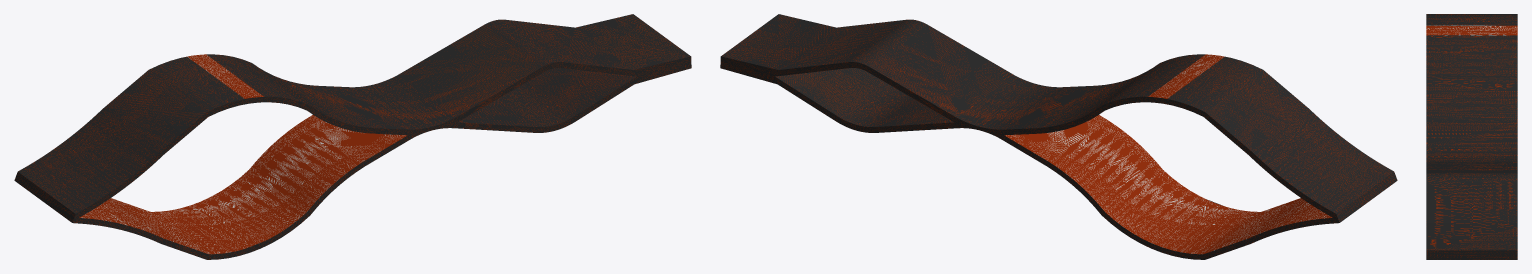
File: original-32.obj
The picture shows the model from 3 angles, left to right: view 1: azimuth 30°, elevation 25°; view 2: azimuth 150°, elevation 25°; view 3: azimuth 270°, elevation 25°; orthographic projection. The views are drawn at different scales.
Visible parts, largest first — view 1: Component_1_18/Component_1/mesh43/mesh43-geometry#mesh43-geometr; view 2: Component_1_18/Component_1/mesh43/mesh43-geometry#mesh43-geometr; view 3: Component_1_18/Component_1/mesh43/mesh43-geometry#mesh43-geometr.
Boxes of the visible parts, <box> form: Component_1_18/Component_1/mesh43/mesh43-geometry#mesh43-geometr: <box>14,14,691,259</box>; Component_1_18/Component_1/mesh43/mesh43-geometry#mesh43-geometr: <box>720,14,1397,259</box>; Component_1_18/Component_1/mesh43/mesh43-geometry#mesh43-geometr: <box>1426,14,1517,259</box>.
Bounding box in the file's own units: 0.835 × 0.2008 × 0.1353.
